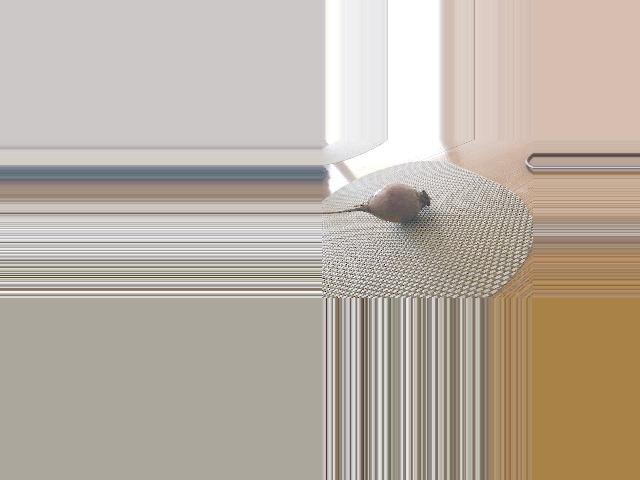beet: (322, 183, 430, 222)
